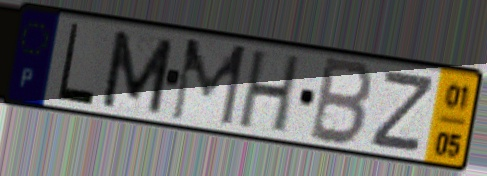B: (306, 53, 378, 150)
H: (234, 48, 305, 137)
L: (54, 20, 98, 109)
M: (167, 36, 250, 130), (97, 27, 177, 117)
Z: (366, 69, 439, 156)
